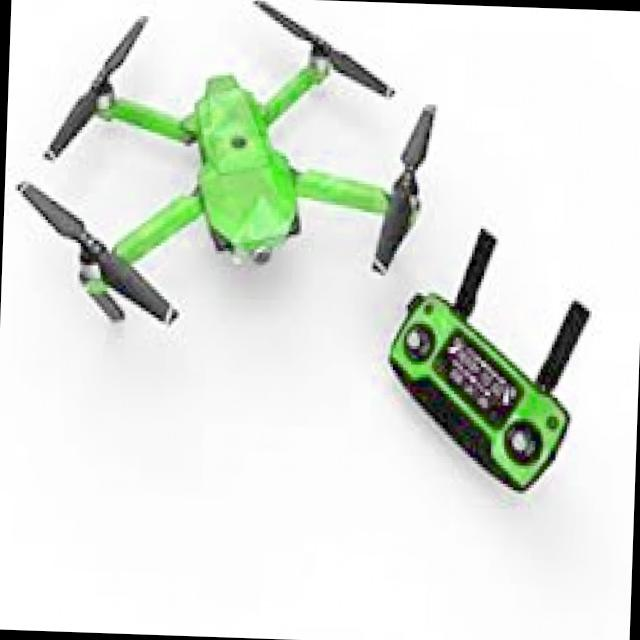drone: (0, 0, 447, 384)
